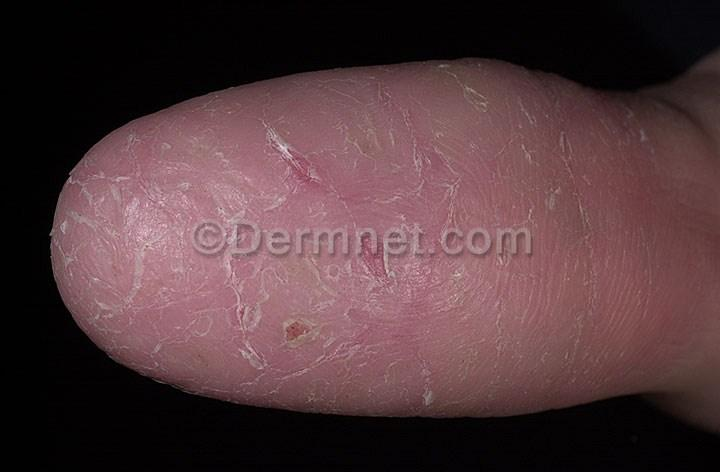Eczema: (12, 132, 565, 403)
